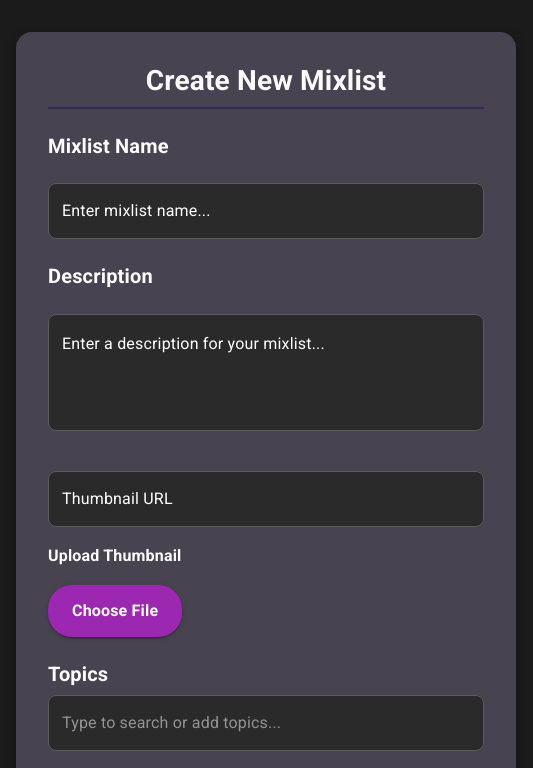
CreateMixlistForm › disables submit until a name is entered
Type "Road Trip" into the field with placeholder "Enter mixlist name..." at (266, 211), box [48,183,484,239]
(page scrolled)
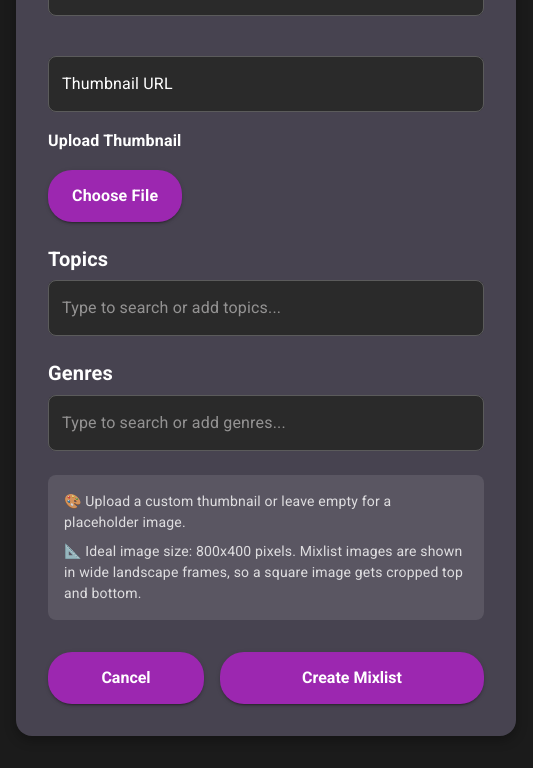
Now the button "Create Mixlist" is enabled, box [220,652,484,704]
